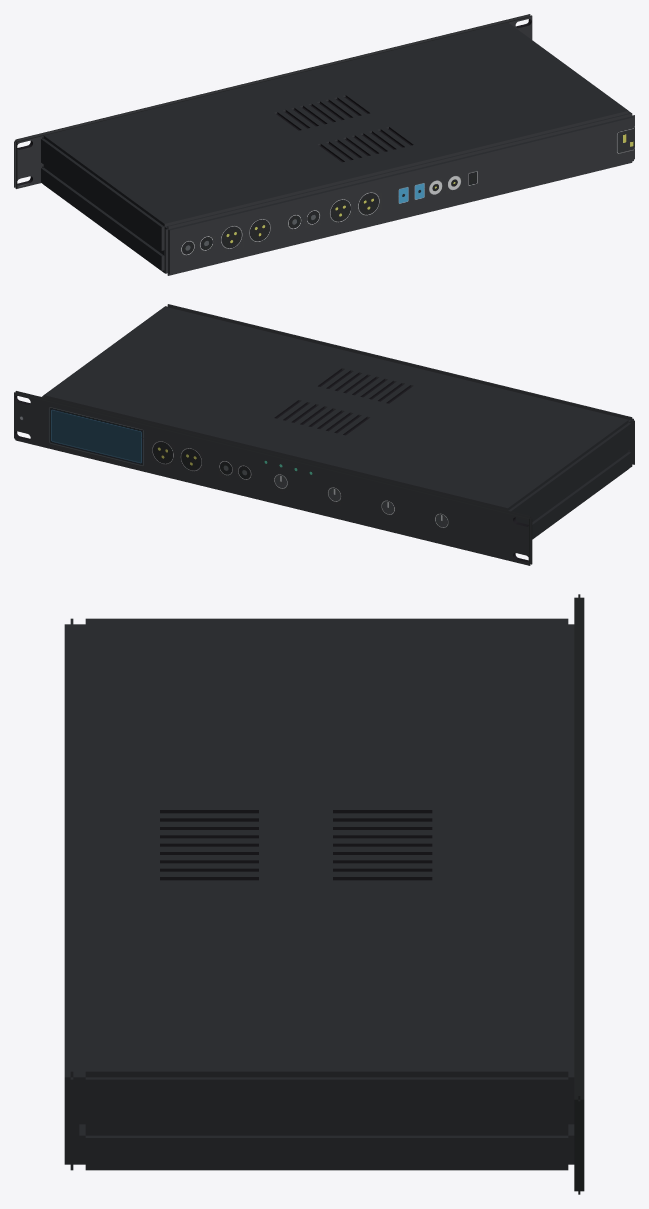
File: rme-fireface-ufx-iii.glb
The picture shows the model from 3 angles, top to bottom: view 1: azimuth 30°, elevation 25°; view 2: azimuth 150°, elevation 25°; view 3: azimuth 270°, elevation 25°; orthographic projection. The views are drawn at different scales.
Visible parts, largest first — view 1: rme-fireface-ufx-iii-body; view 2: rme-fireface-ufx-iii-body; view 3: rme-fireface-ufx-iii-body.
Boxes of the visible parts, <box> form: rme-fireface-ufx-iii-body: <box>14,14,634,275</box>; rme-fireface-ufx-iii-body: <box>14,304,634,565</box>; rme-fireface-ufx-iii-body: <box>64,594,584,1194</box>.
Size of the model in its own units: 0.483 by 0.044 by 0.21.
Materials: 1 (1 with a texture image).
